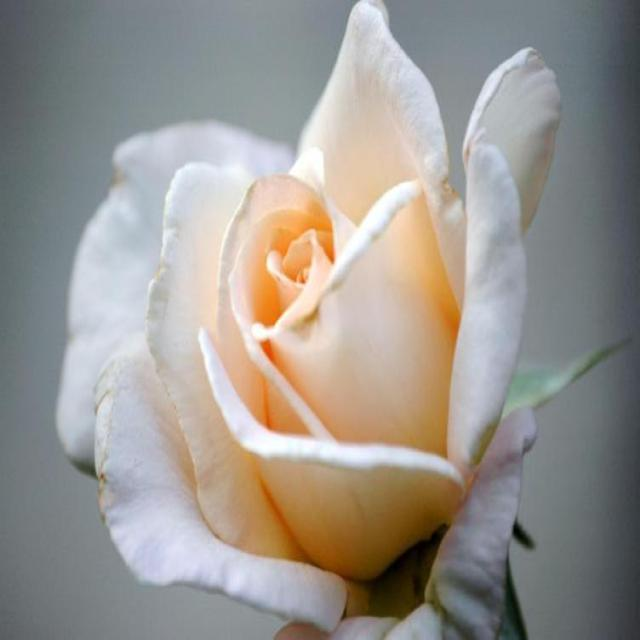rose: (48, 2, 587, 640)
